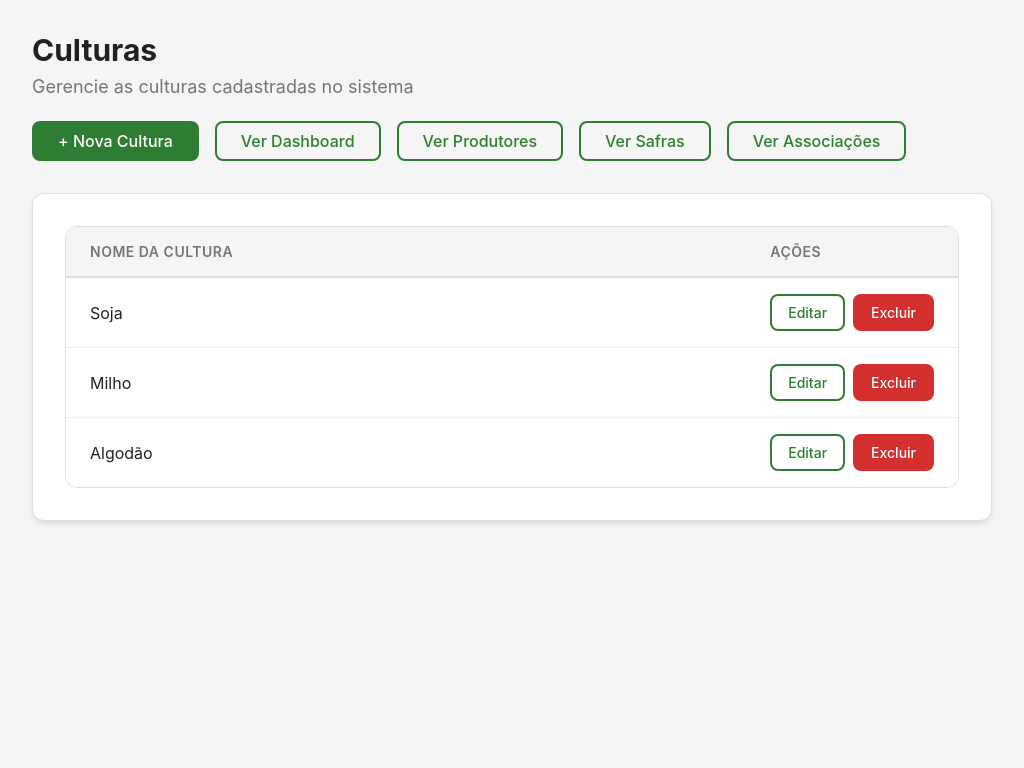
Test case: Componente CropsListPage › deve abrir modal de edição ao clicar em Editar
Click the button "Editar" in the row of "Soja" at (808, 312), box [770,294,845,331]
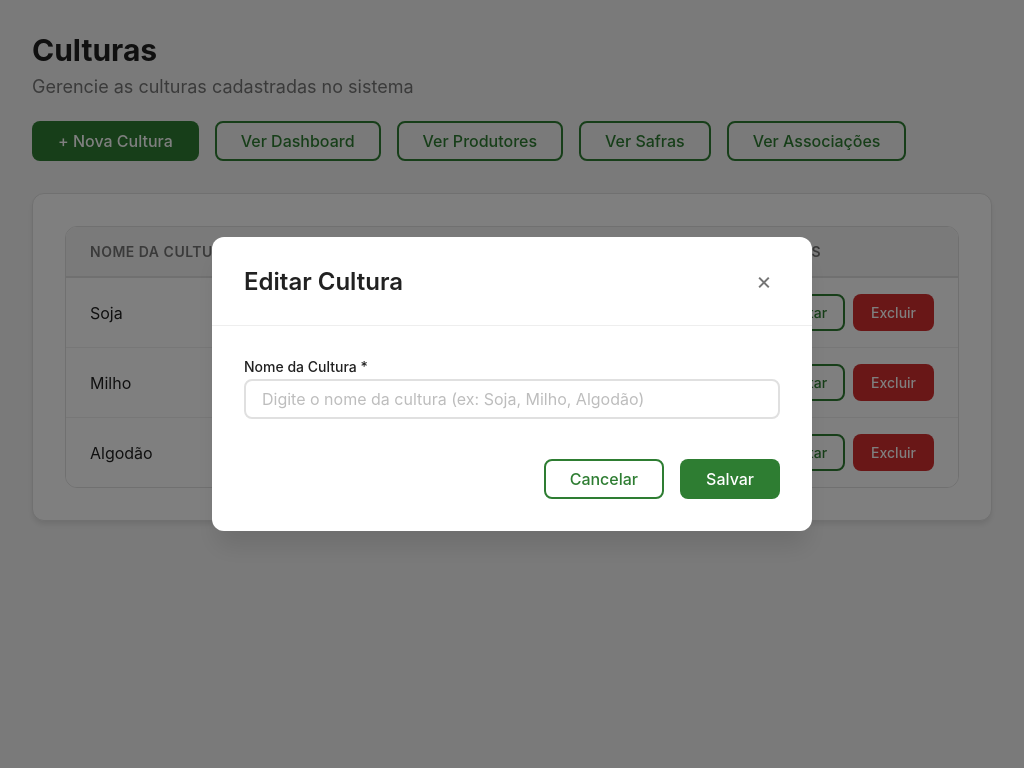
Check: the heading "Editar Cultura" is shown, box [244,266,403,296]
